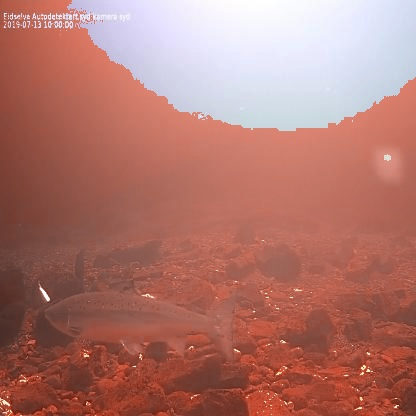salmon: (42, 277, 238, 363)
